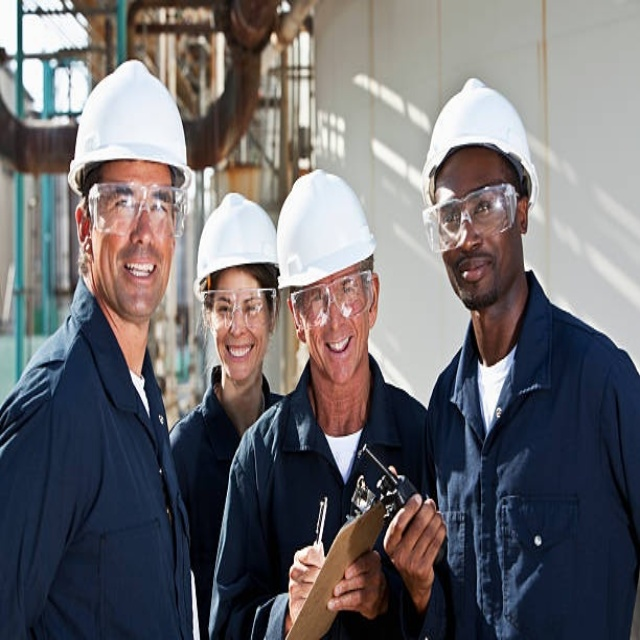Gafas: (422, 182, 520, 254), (87, 181, 190, 238), (288, 268, 374, 329), (203, 289, 277, 333)
Sin_guantes: (380, 482, 446, 601), (324, 546, 387, 620), (287, 540, 328, 628)
Sin_mascara: (117, 249, 165, 295), (457, 254, 498, 301), (322, 328, 357, 372), (222, 339, 259, 376)
